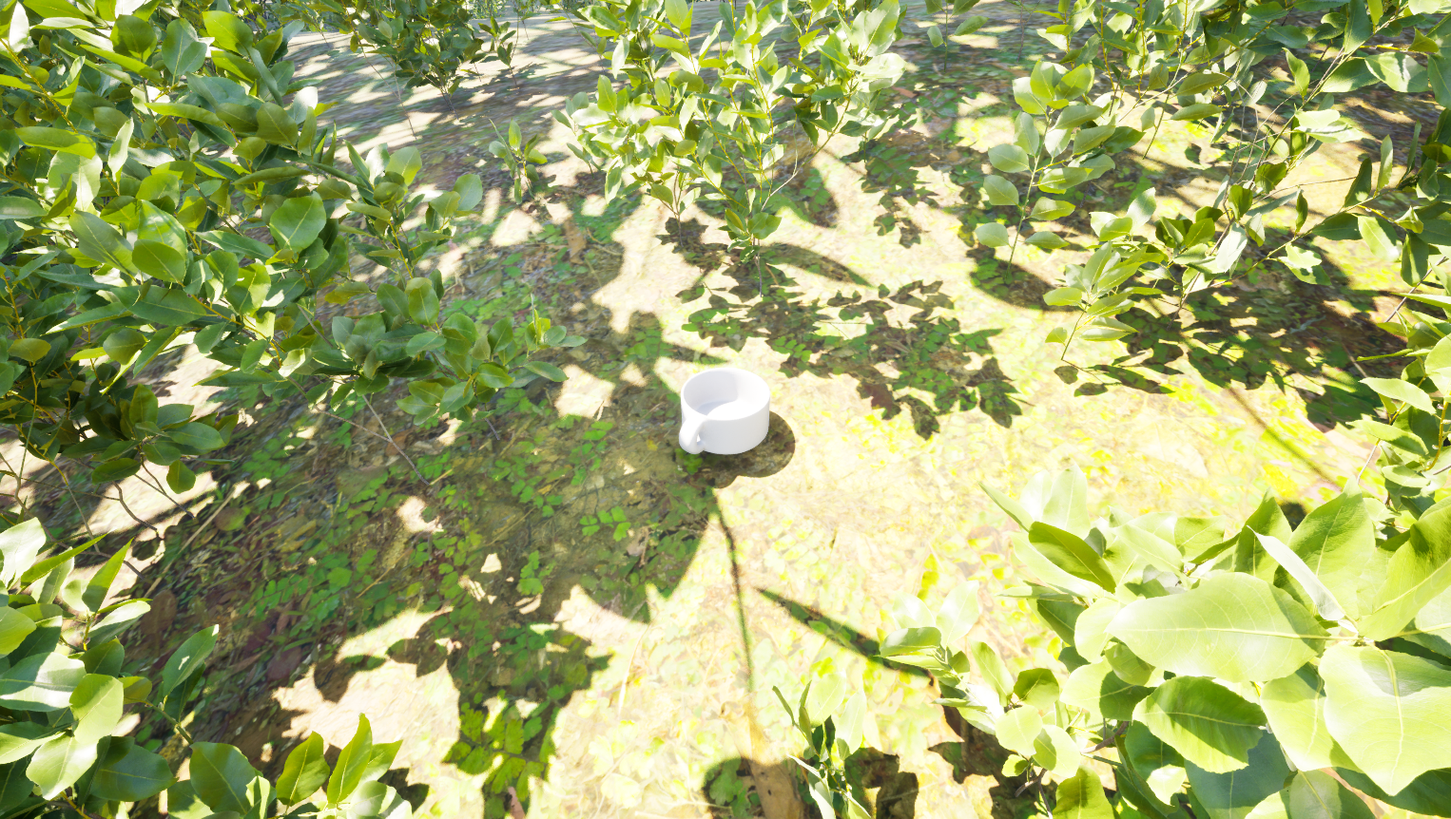Teacup: (657, 360, 785, 467)
